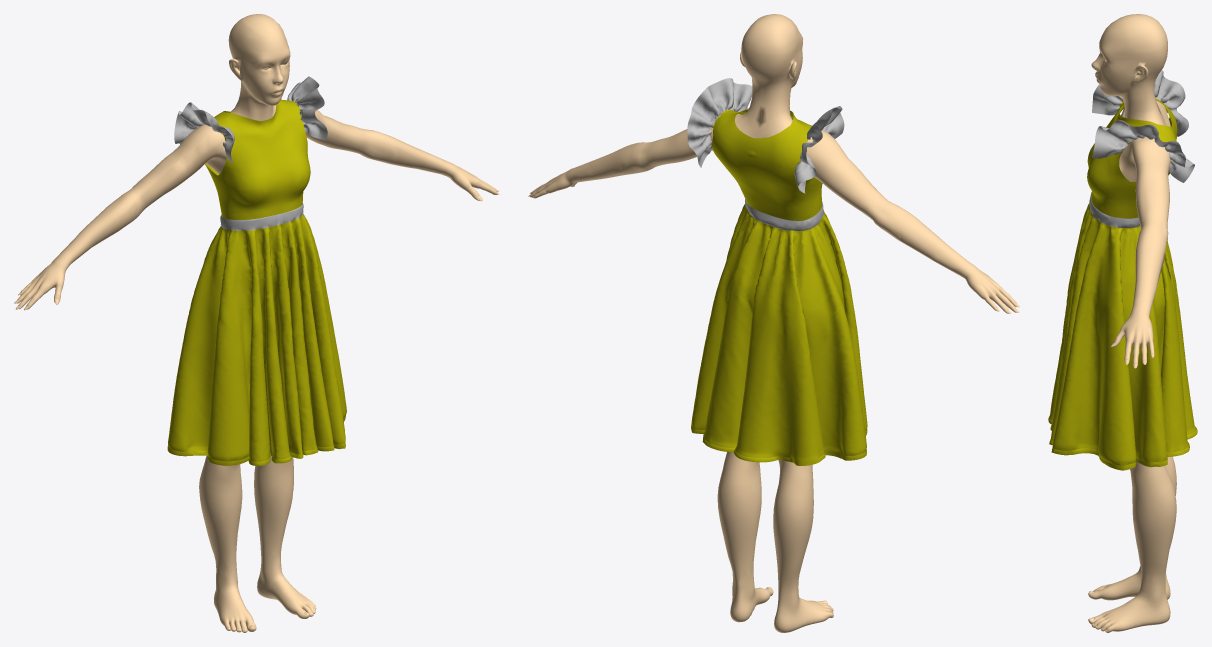
The model's file is dress10.glb.
The picture shows the model from 3 angles, left to right: view 1: azimuth 30°, elevation 25°; view 2: azimuth 150°, elevation 25°; view 3: azimuth 270°, elevation 25°; orthographic projection.
Visible parts, largest first — view 1: PinkDrees#14 (OBJ), Body; view 2: PinkDrees#14 (OBJ), Body; view 3: PinkDrees#14 (OBJ), Body.
Part boxes in pixels (left/top/right/bottom): PinkDrees#14 (OBJ): left=167, top=76, right=346, bottom=465; Body: left=17, top=14, right=498, bottom=632; PinkDrees#14 (OBJ): left=687, top=78, right=867, bottom=465; Body: left=529, top=14, right=1016, bottom=632; PinkDrees#14 (OBJ): left=1048, top=70, right=1197, bottom=470; Body: left=1088, top=14, right=1176, bottom=632.
Bounding box in the file's own units: 1.58 × 1.85 × 0.4187.
